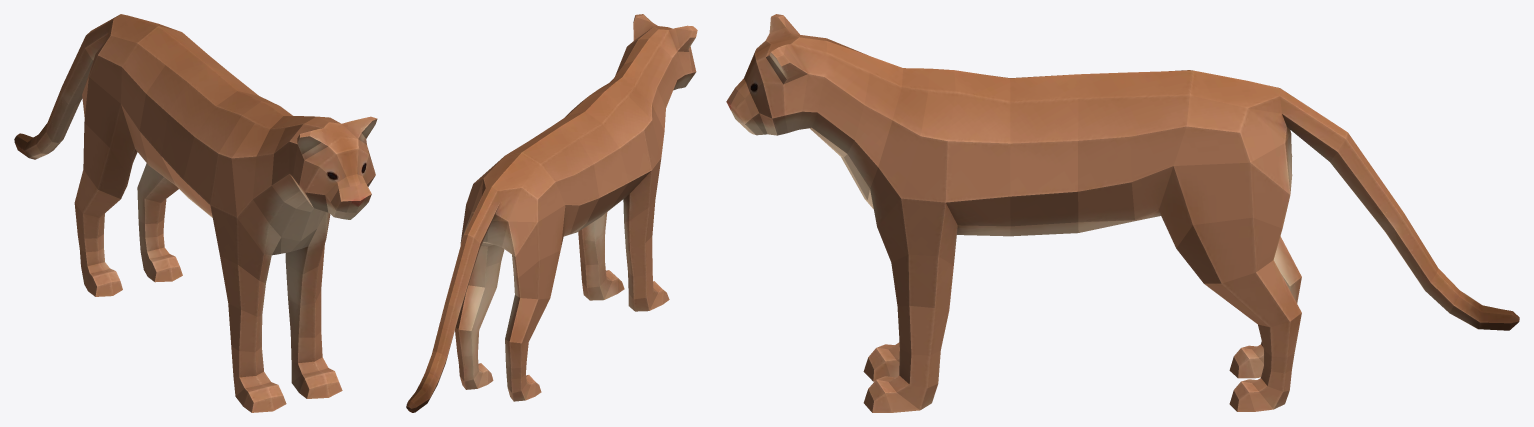
Rendered from lioness.glb.
3 renders of one model, left to right at view 1: azimuth 30°, elevation 25°; view 2: azimuth 150°, elevation 25°; view 3: azimuth 270°, elevation 25°, orthographic. The views are drawn at different scales.
Parts seen in each view (by area): view 1: Cougar_mesh; view 2: Cougar_mesh; view 3: Cougar_mesh.
Boxes of the visible parts, x1,y1,x2,y2 form: Cougar_mesh: (14,14,377,412); Cougar_mesh: (406,14,697,412); Cougar_mesh: (726,14,1519,412).
Size of the model in its own units: 2.33 by 6.2 by 12.56.
Materials: 1 (1 with a texture image).
